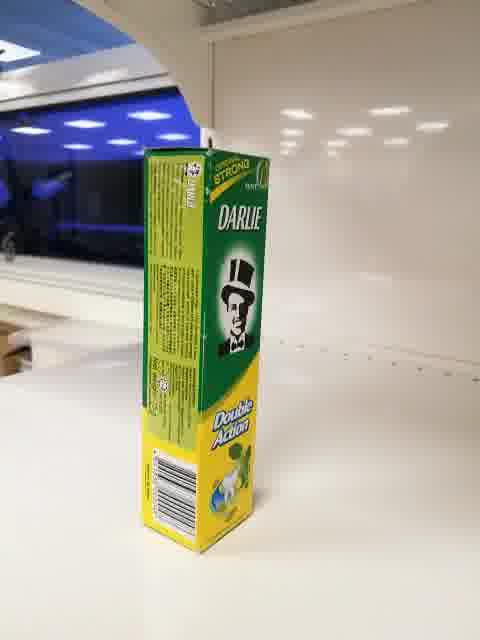toothpaste: (142, 147, 271, 556)
